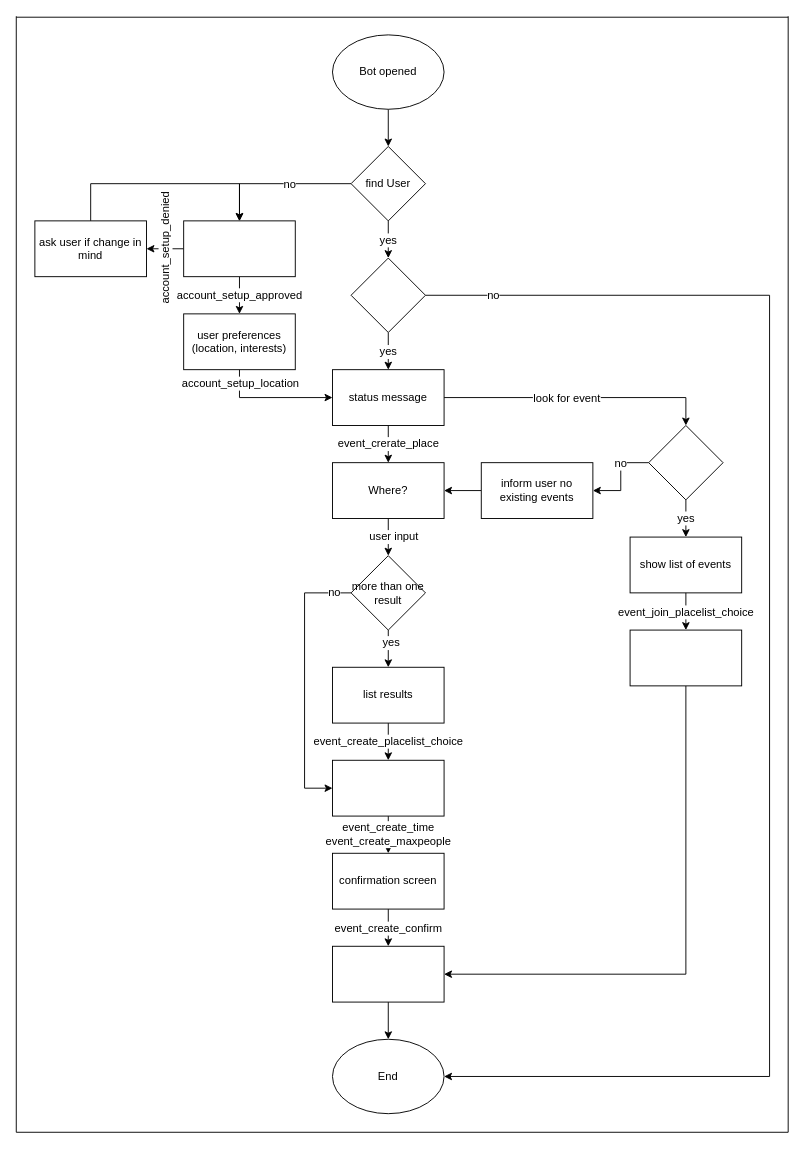
This 805x1149 diagram has some shape labels left out. Here are the shapes that lost their labels. From the top down, the centre of each, then its label:
At pixel 239 248: "inform user of PP".
At pixel 387 294: "last Activity + 6h > now".
At pixel 685 462: "find events in area".
At pixel 685 657: "update other event members 'event status message'".
At pixel 388 787: "ask for other information for event".
At pixel 388 973: "event status message".
